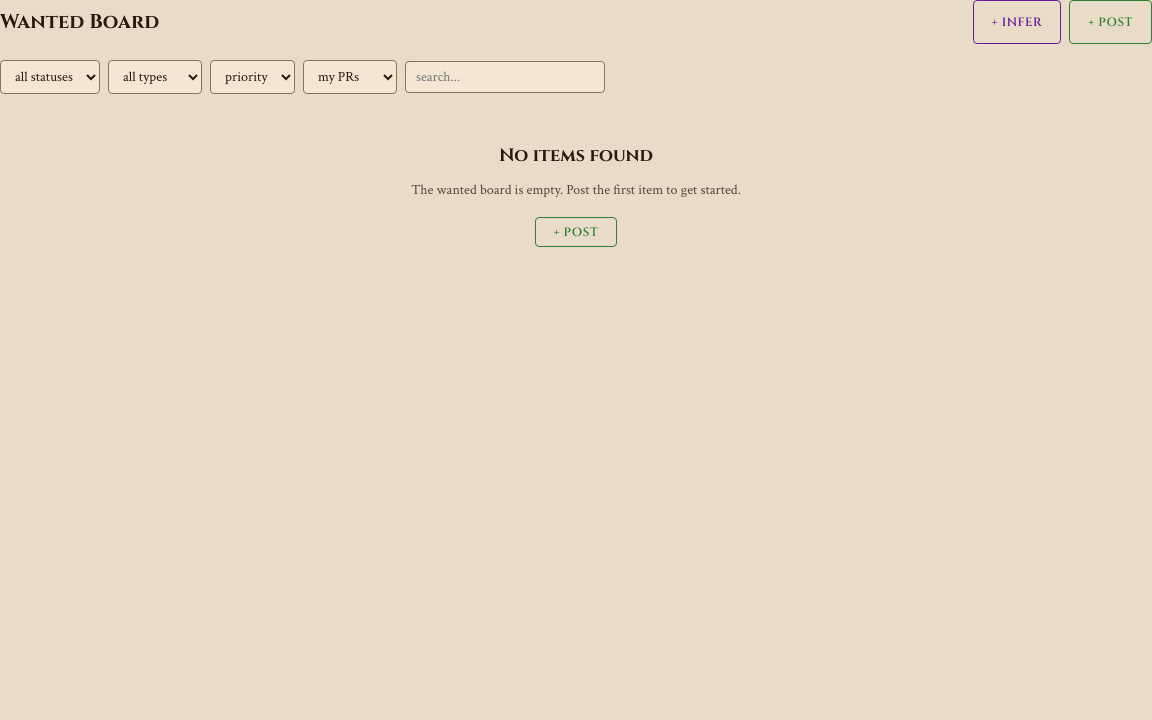
Test: BrowseList › + Post button opens WantedForm
The width and height of the screenshot is (1152, 720).
Expected: the heading "No items found" is shown, top-left (499, 142), bottom-right (653, 171)
Click the 1st button "+ Post" at (1111, 22), box top-left (1069, 0), bottom-right (1151, 44)
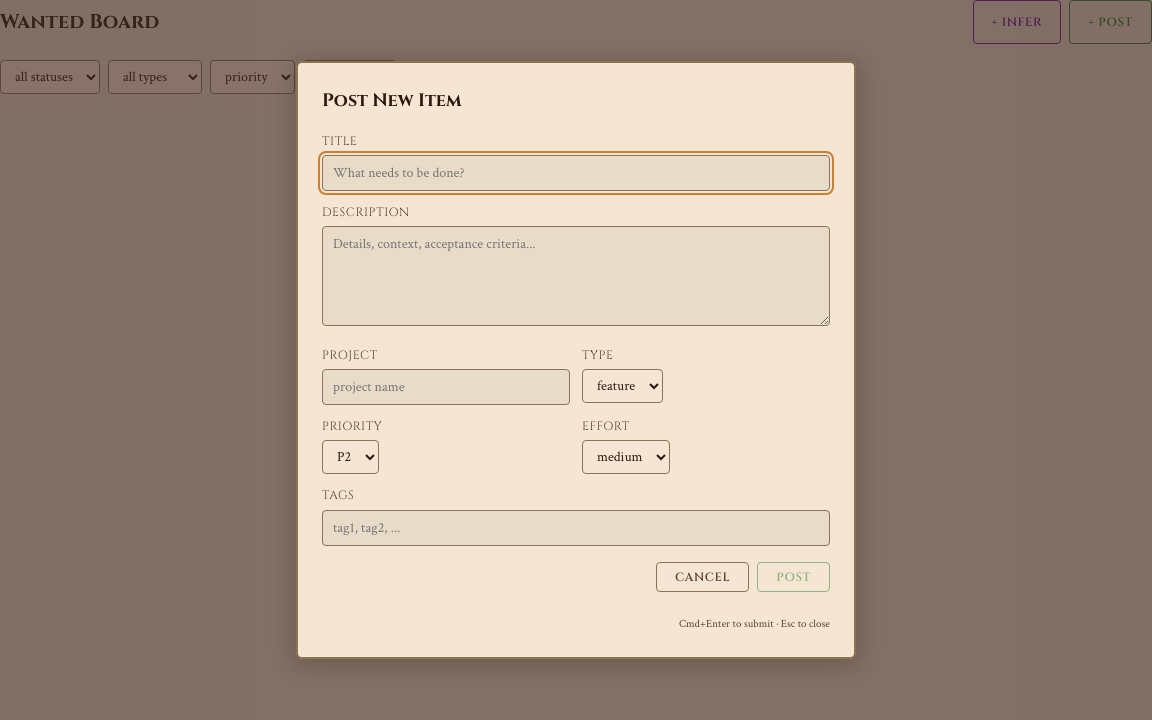
Now the heading "Post New Item" is shown, box top-left (322, 88), bottom-right (462, 113)
